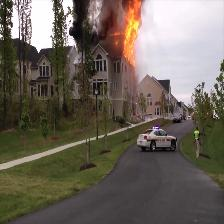fire: (124, 0, 143, 62)
smoke: (71, 1, 91, 46), (98, 0, 114, 35)
